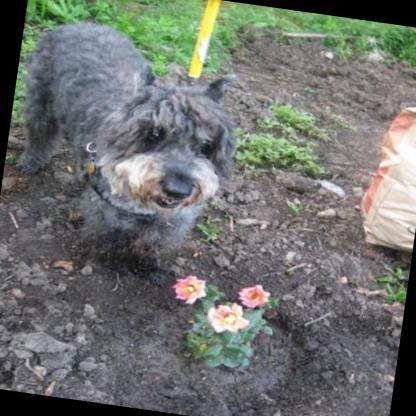Bouvier_des_Flandres: (0, 7, 253, 291)
